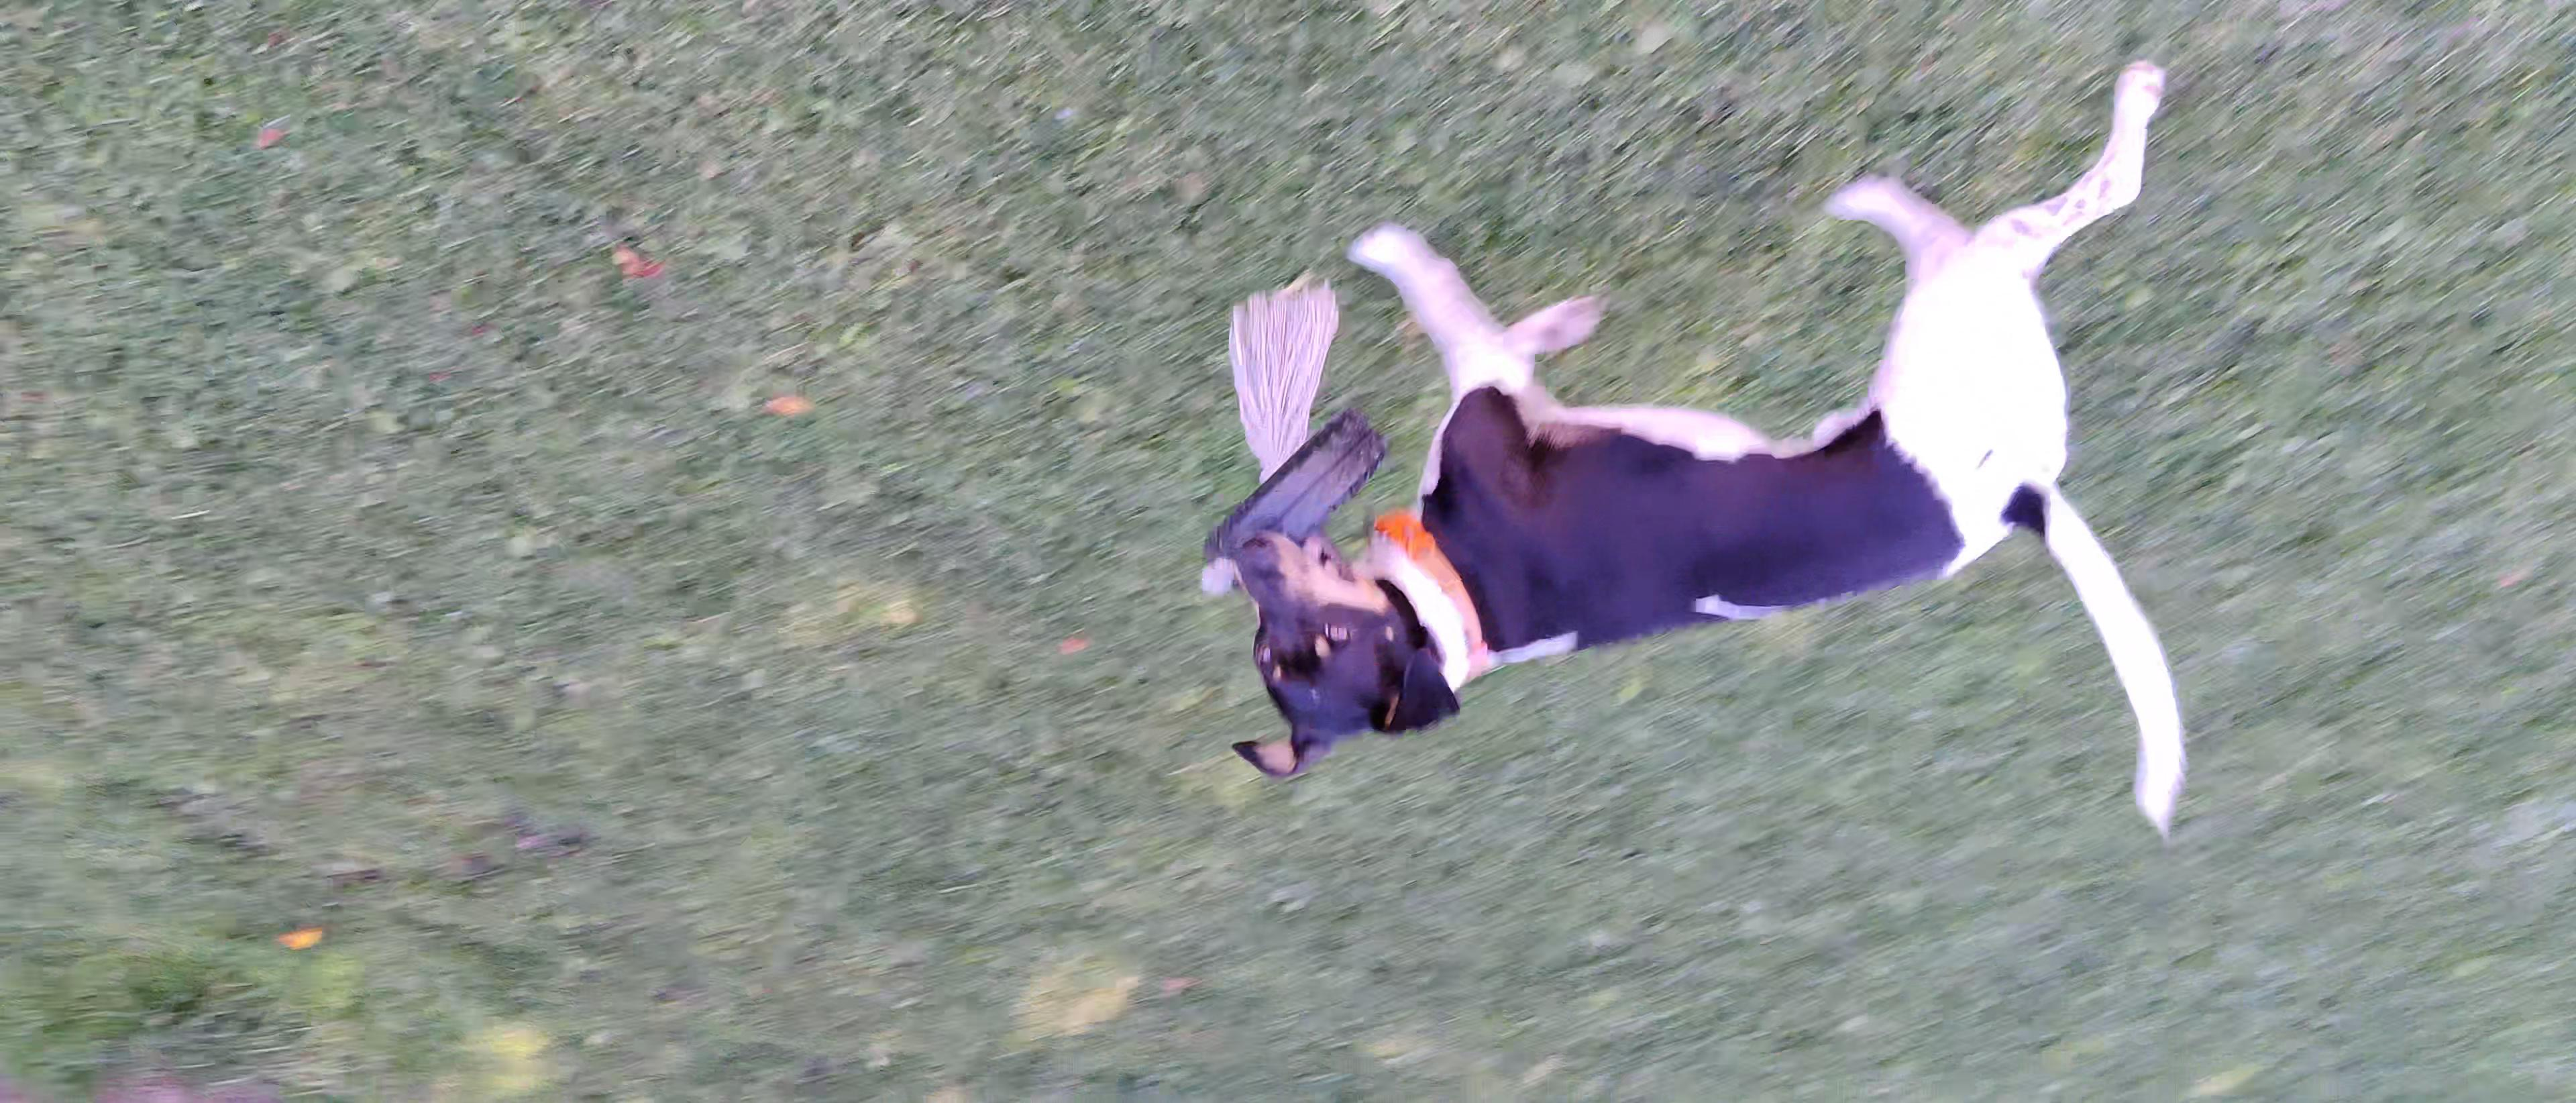Dog: (1140, 35, 2206, 848)
